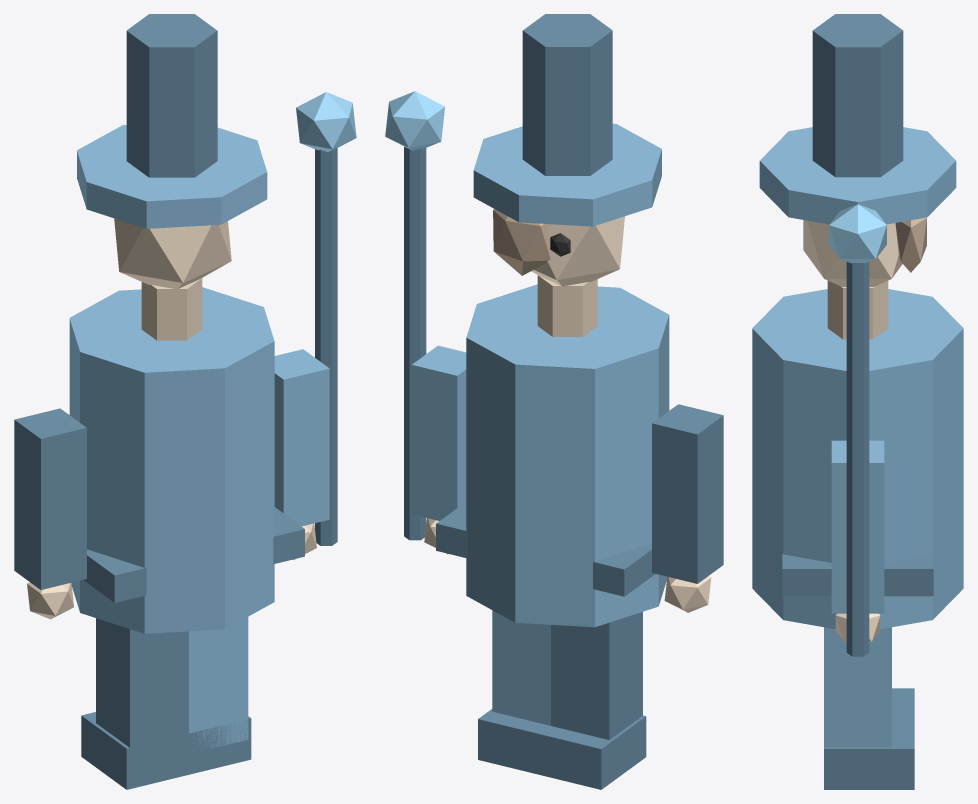
File: zhenghe.glb
3 views of the same model, side by side, from view 1: azimuth 30°, elevation 25°; view 2: azimuth 150°, elevation 25°; view 3: azimuth 270°, elevation 25° (orthographic).
Parts seen in each view (by area): view 1: zhenghe; view 2: zhenghe; view 3: zhenghe.
Part boxes in pixels (bbox=[...]): zhenghe: bbox=[14, 14, 356, 789]; zhenghe: bbox=[385, 14, 723, 789]; zhenghe: bbox=[752, 14, 963, 789].
Size of the model in its own units: 0.9905 by 2.13 by 0.56.
